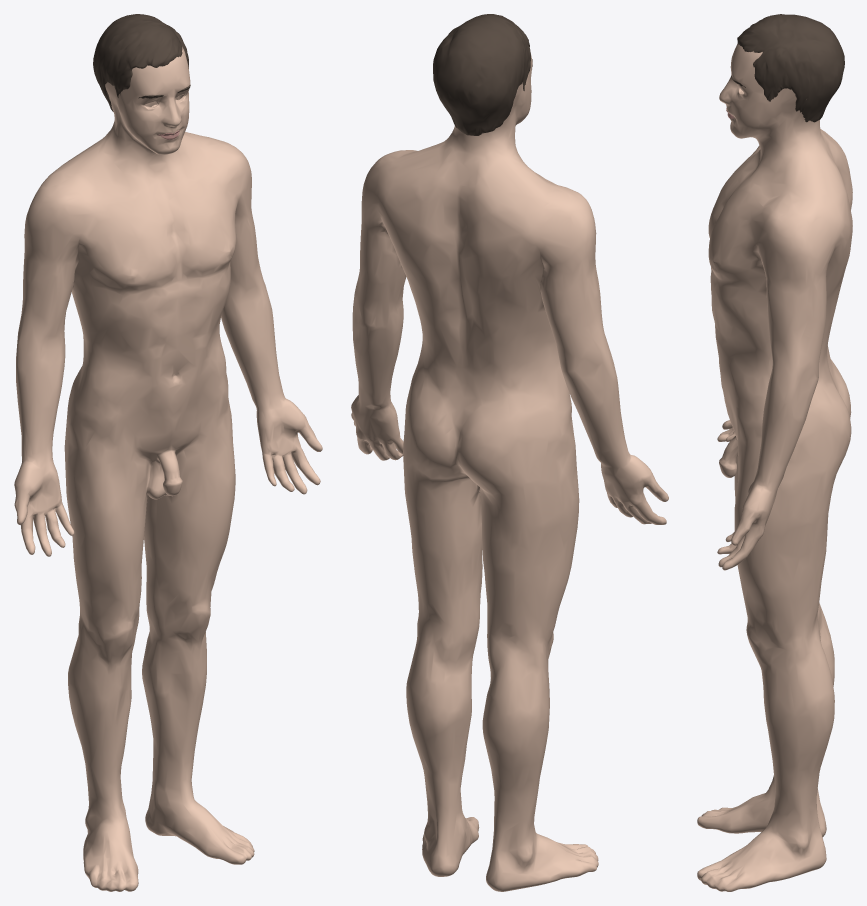
Rendered from exterior.glb.
3 renders of one model, left to right at view 1: azimuth 30°, elevation 25°; view 2: azimuth 150°, elevation 25°; view 3: azimuth 270°, elevation 25°, orthographic. The views are drawn at different scales.
Visible parts, largest first — view 1: skin, hair; view 2: skin, hair; view 3: skin, hair.
Boxes of the visible parts, x1,y1,x2,y2 form: skin: (14, 47, 322, 891); hair: (93, 14, 188, 111); skin: (351, 53, 668, 891); hair: (433, 14, 530, 135); skin: (697, 44, 852, 891); hair: (737, 14, 844, 122).
Size of the model in its own units: 0.6667 by 1.73 by 0.292.
